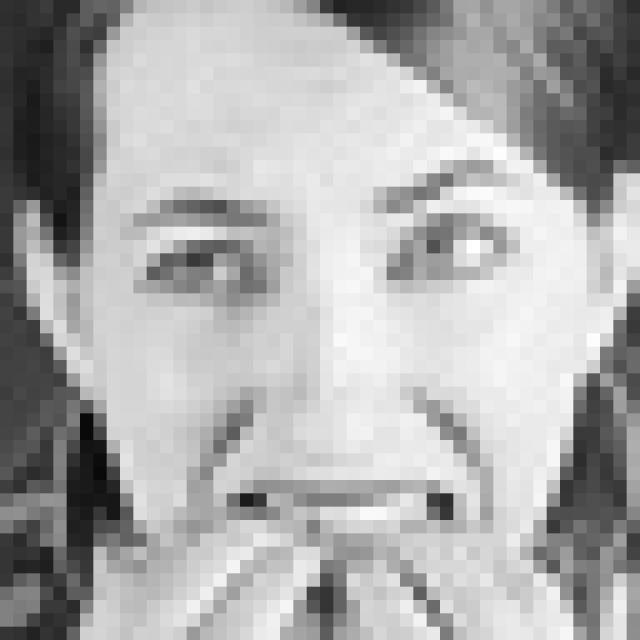fear: (116, 156, 539, 586)
